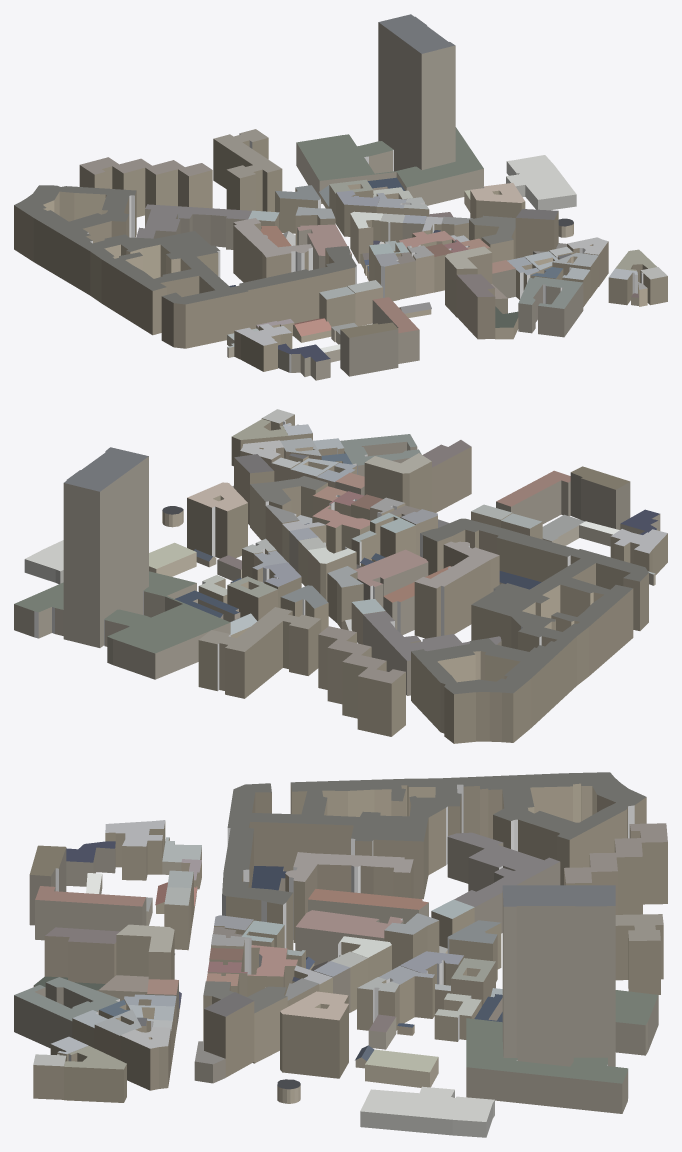
The picture shows the model from 3 angles, top to bottom: view 1: azimuth 30°, elevation 25°; view 2: azimuth 150°, elevation 25°; view 3: azimuth 270°, elevation 25°; orthographic projection. The views are drawn at different scales.
Parts seen in each view (by area): view 1: tuile; view 2: tuile; view 3: tuile.
Part boxes in pixels (bbox=[...]): tuile: bbox=[14, 14, 667, 380]; tuile: bbox=[14, 409, 667, 743]; tuile: bbox=[14, 772, 667, 1137].
Bounding box in the file's own units: 306 × 84.49 × 276.
